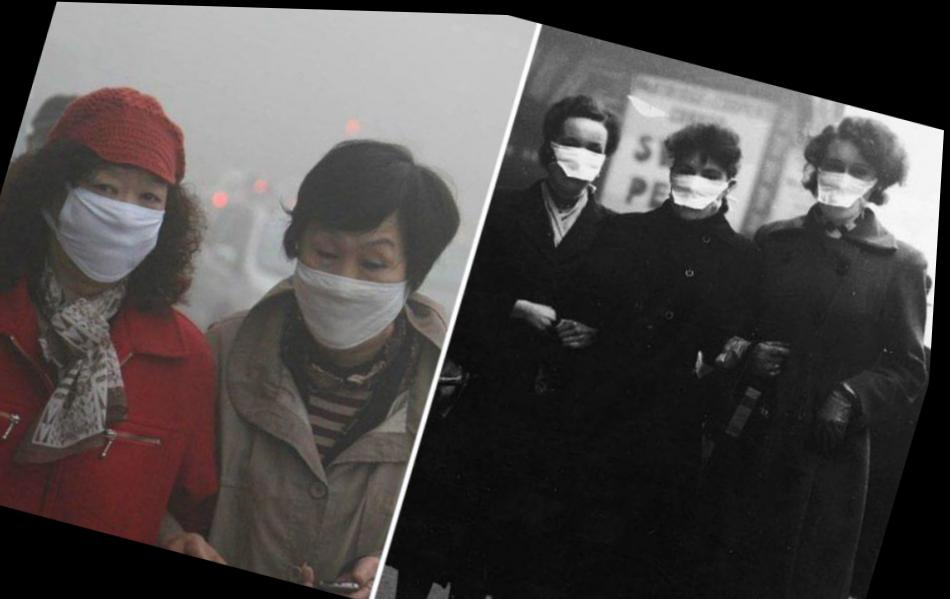OK: (279, 218, 423, 363), (46, 153, 179, 294)
WRONG: (812, 148, 888, 221), (663, 149, 736, 223), (546, 121, 612, 200)
